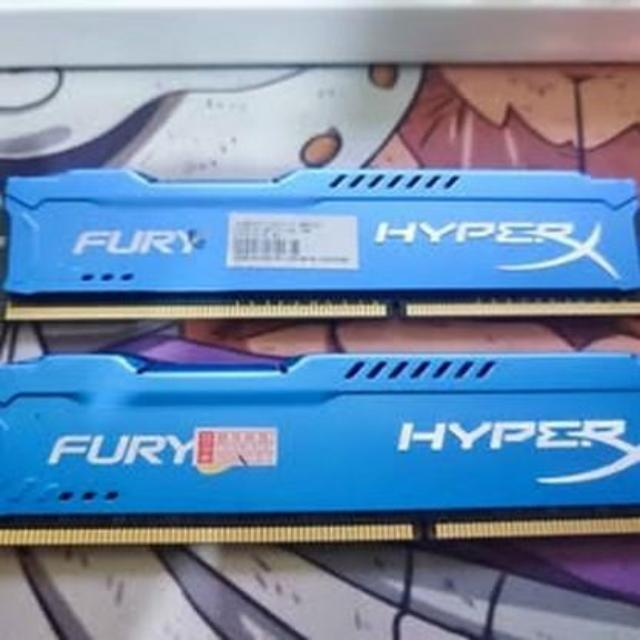RAM: (0, 348, 640, 554), (0, 159, 640, 319)
